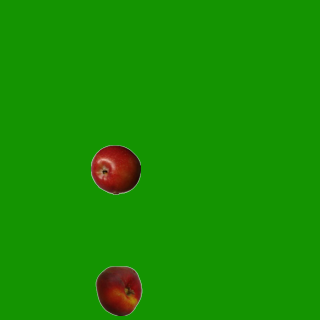Apple Braeburn: (90, 144, 140, 194)
Nectarine Flat: (93, 265, 143, 315)
